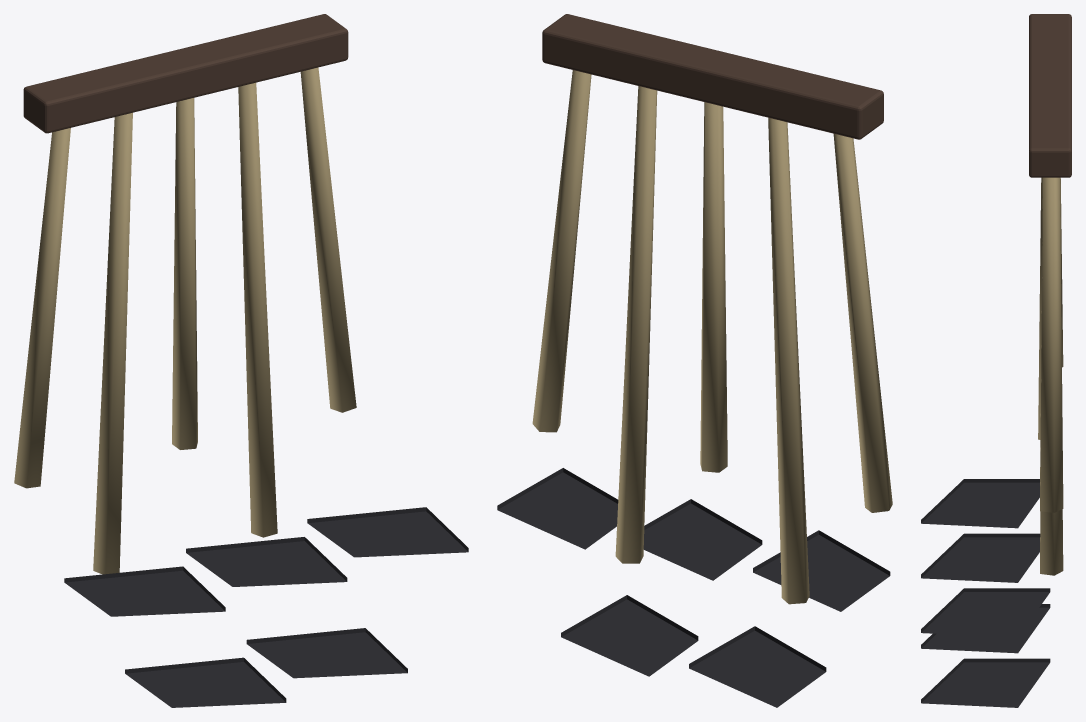
Rendered from hanging_herbs_bat_wings.glb.
The picture shows the model from 3 angles, left to right: view 1: azimuth 30°, elevation 25°; view 2: azimuth 150°, elevation 25°; view 3: azimuth 270°, elevation 25°; orthographic projection. The views are drawn at different scales.
Parts seen in each view (by area): view 1: GD_hanging_herbs_bat_wings__m1, GD_hanging_herbs_bat_wings__m2, GD_hanging_herbs_bat_wings__m0; view 2: GD_hanging_herbs_bat_wings__m1, GD_hanging_herbs_bat_wings__m2, GD_hanging_herbs_bat_wings__m0; view 3: GD_hanging_herbs_bat_wings__m2, GD_hanging_herbs_bat_wings__m1, GD_hanging_herbs_bat_wings__m0.
Boxes of the visible parts, x1=… form: GD_hanging_herbs_bat_wings__m1: x1=14, y1=67, x2=356, y2=574; GD_hanging_herbs_bat_wings__m2: x1=64, y1=507, x2=468, y2=707; GD_hanging_herbs_bat_wings__m0: x1=23, y1=14, x2=348, y2=133; GD_hanging_herbs_bat_wings__m1: x1=532, y1=70, x2=892, y2=604; GD_hanging_herbs_bat_wings__m2: x1=497, y1=468, x2=890, y2=707; GD_hanging_herbs_bat_wings__m0: x1=542, y1=14, x2=883, y2=139; GD_hanging_herbs_bat_wings__m2: x1=921, y1=479, x2=1050, y2=707; GD_hanging_herbs_bat_wings__m1: x1=1038, y1=177, x2=1063, y2=575; GD_hanging_herbs_bat_wings__m0: x1=1029, y1=14, x2=1071, y2=177.
Size of the model in its own units: 0.3874 by 0.567 by 0.14.
